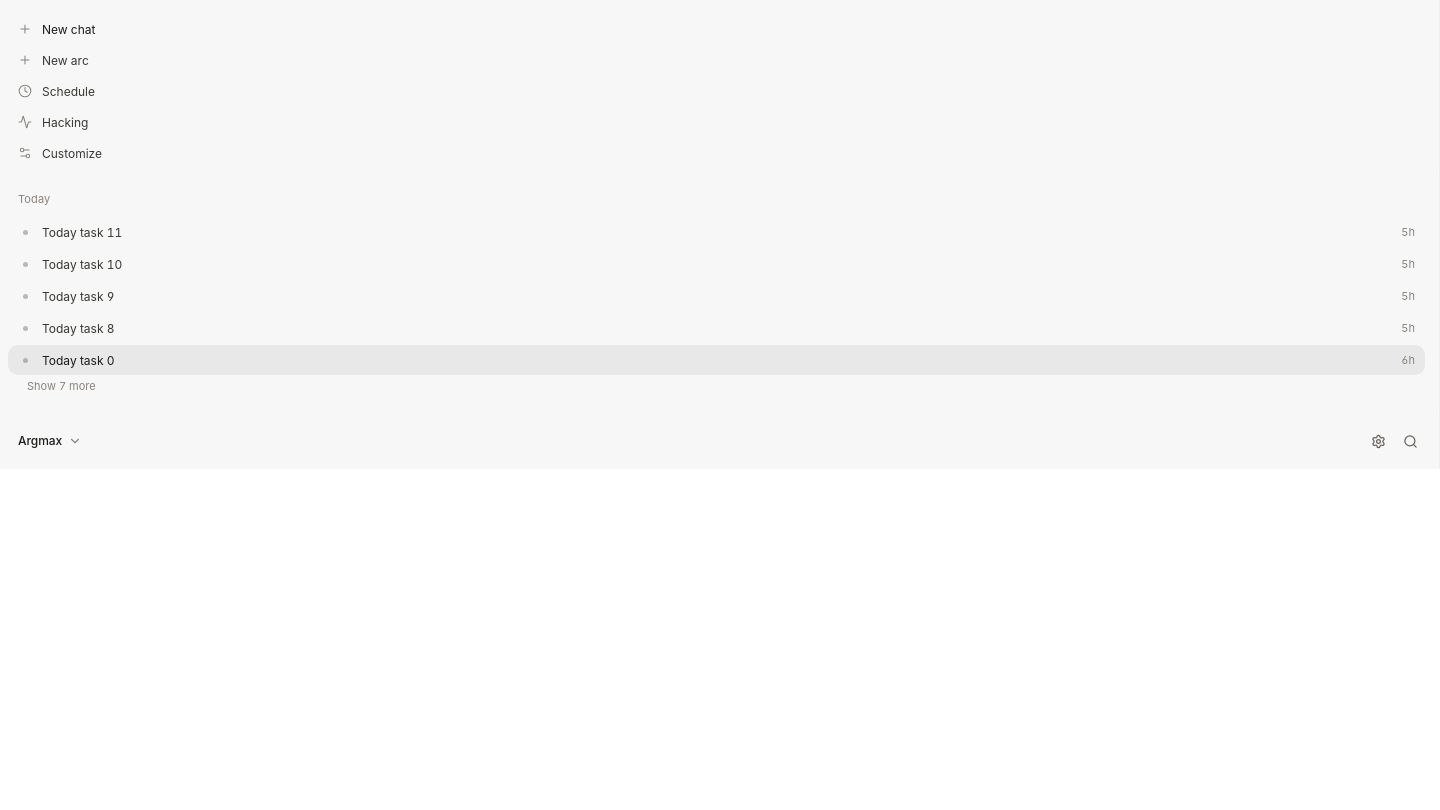
Scenario: Sidebar — date (sessions) view mode › show less returns an overflowed date bucket to five rows when the selected session is older
The image size is (1440, 810).
Expected: the number of buttons "Today task 11 5h" is 5, [8, 217, 1425, 247]; [8, 249, 1425, 279]; [8, 281, 1425, 311]; [8, 313, 1425, 343]; [8, 345, 1425, 375]
Expected: the button "Today task 0 6h" is shown, [8, 345, 1425, 375]
Click the button with aria-label "Show 7 more Today chats" at (61, 386), box [14, 375, 1425, 399]
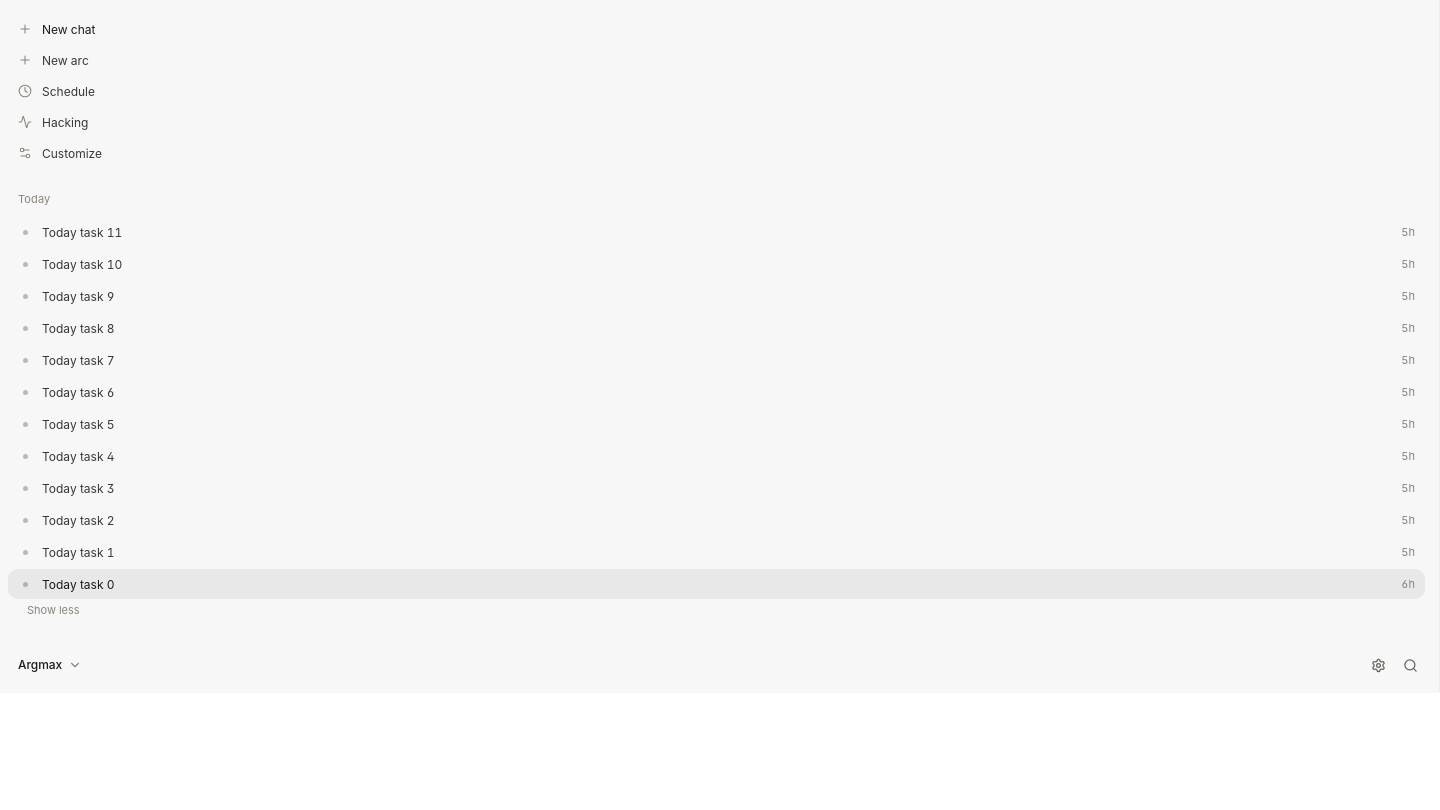
Now the number of buttons "Today task 11 5h" is 12
Click the button with aria-label "Show fewer Today chats" at (53, 610), box [14, 599, 1425, 623]
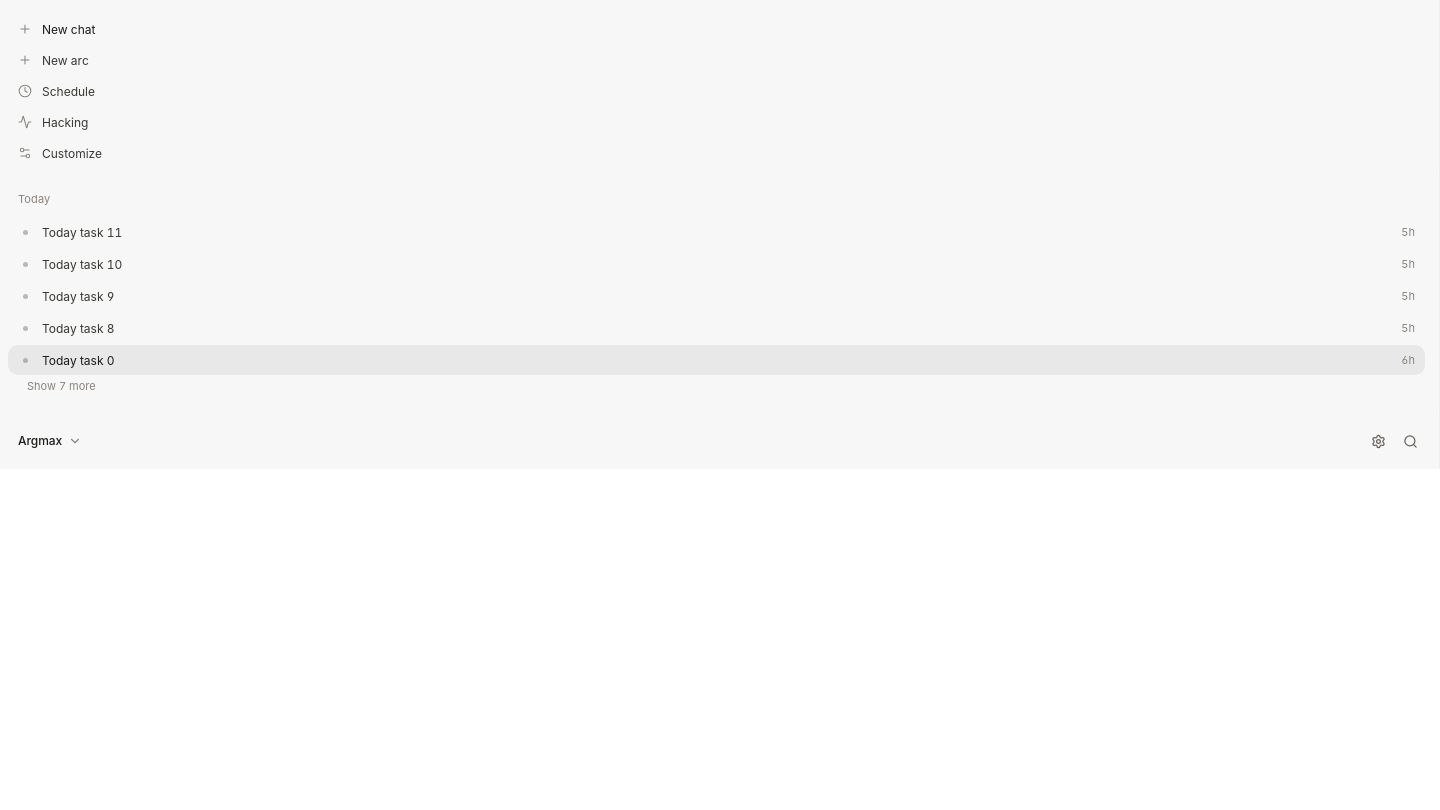
Expected: the button "Today task 0 6h" is shown, [8, 345, 1425, 375]
Now the number of buttons "Today task 11 5h" is 5, box [8, 217, 1425, 247]; [8, 249, 1425, 279]; [8, 281, 1425, 311]; [8, 313, 1425, 343]; [8, 345, 1425, 375]
